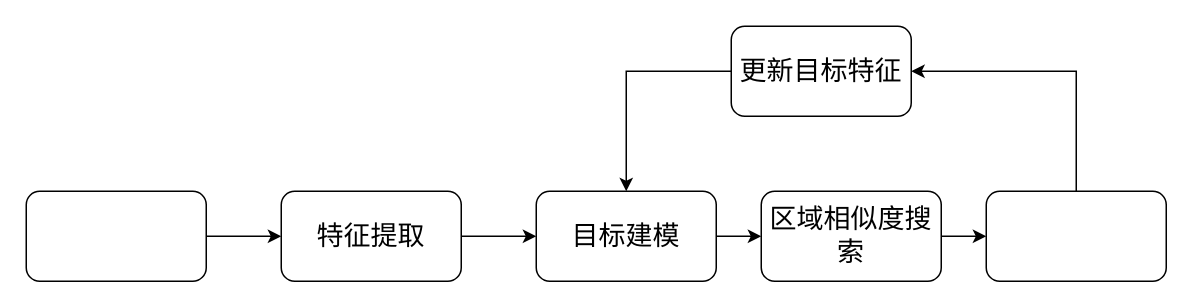
Image size: 1193x308. Some labels were removed from this diagram. The centre of each missing label's shape, as x and y in pixels:
位置输出: [1075,235]
目标框选择: [115,235]
